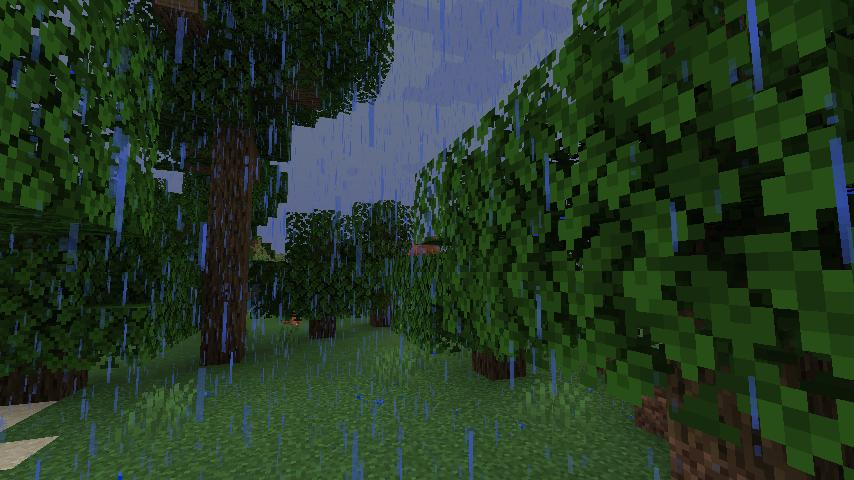frog: (409, 234, 442, 259)
